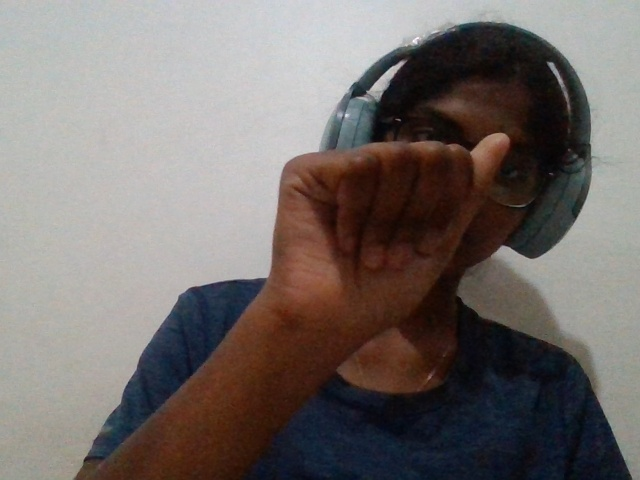A: (198, 118, 538, 432)
